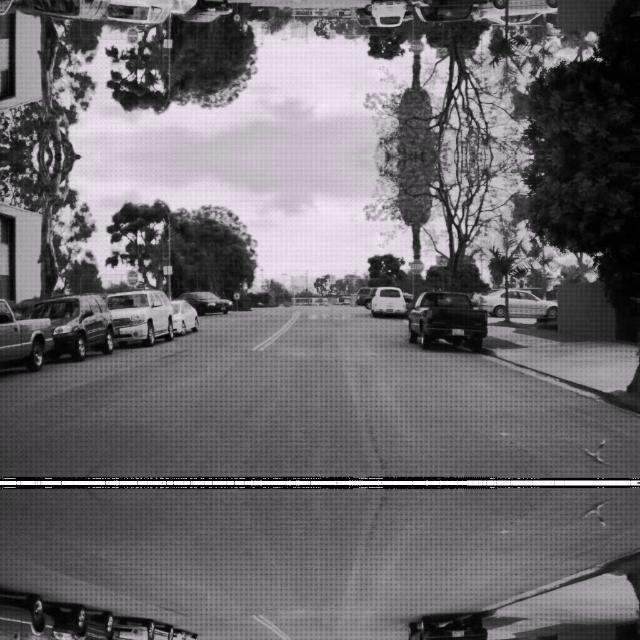stop: (410, 257, 424, 273), (410, 39, 424, 55)
